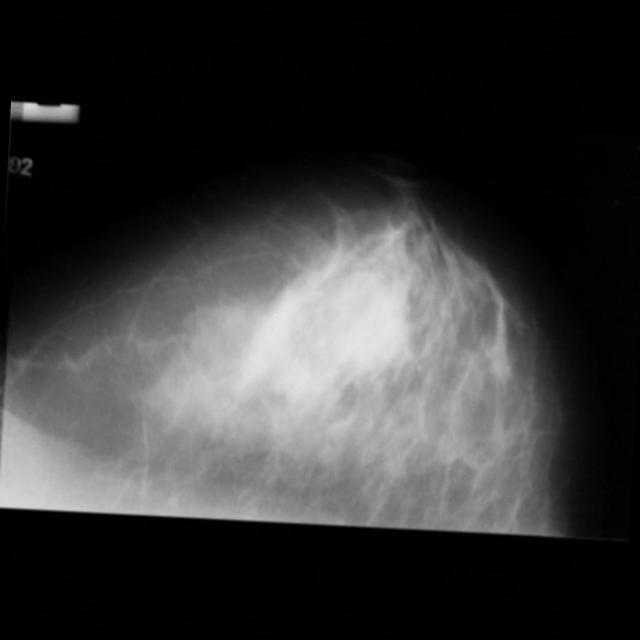CIRC: (300, 263, 422, 386)
